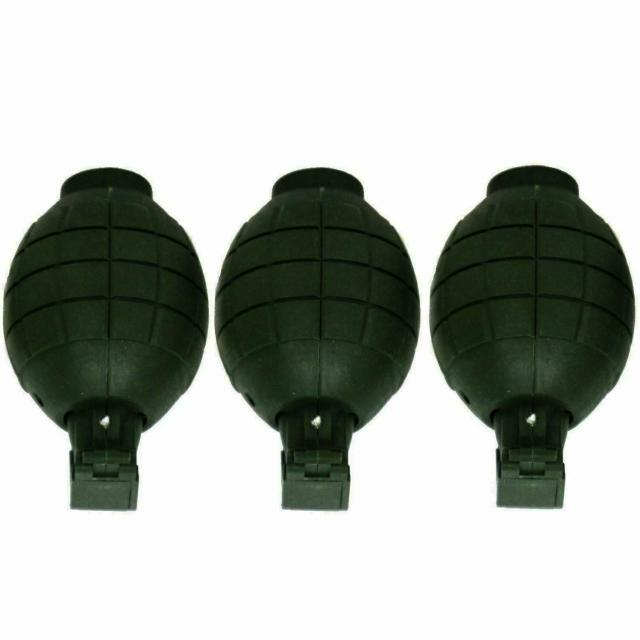grenade: (431, 168, 636, 510), (3, 170, 209, 510), (215, 169, 419, 511)
